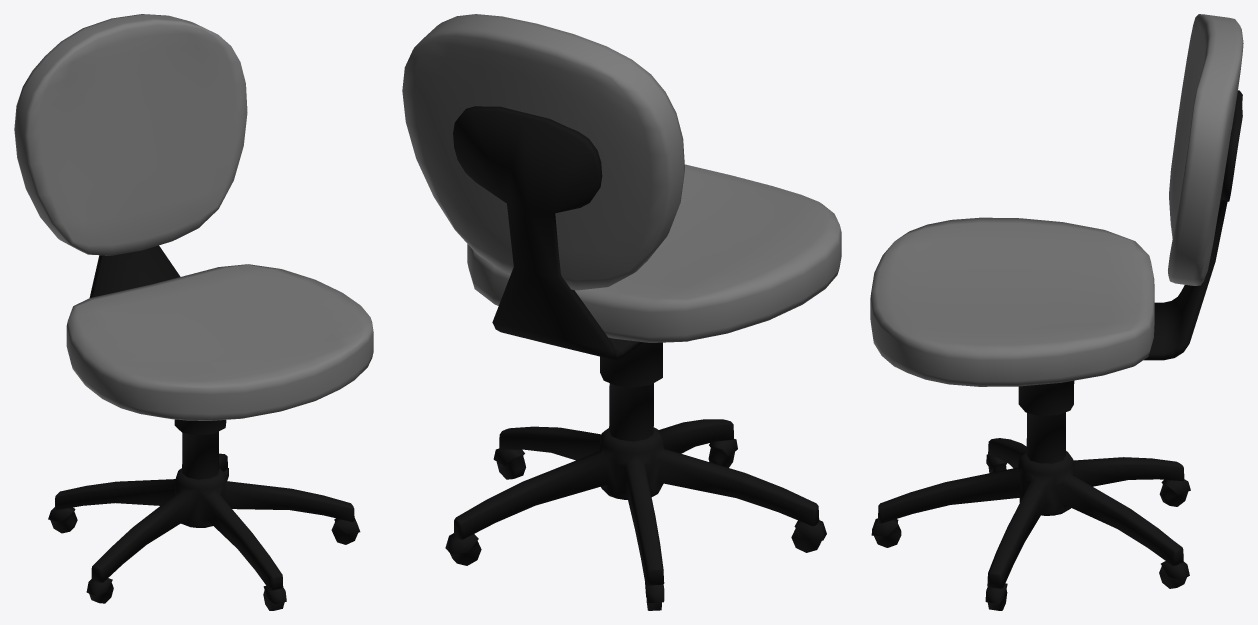
Rendered from Kursi1.fbx.
3 views of the same model, side by side, from view 1: azimuth 30°, elevation 25°; view 2: azimuth 150°, elevation 25°; view 3: azimuth 270°, elevation 25° (orthographic). The views are drawn at different scales.
Visible parts, largest first — view 1: Mesh.001; view 2: Mesh.001; view 3: Mesh.001.
Part boxes in pixels (bbox=[...]): Mesh.001: bbox=[14, 14, 373, 610]; Mesh.001: bbox=[402, 14, 841, 610]; Mesh.001: bbox=[870, 14, 1243, 610].
Bounding box in the file's own units: 75.21 × 126 × 83.14.
2 materials, 1 textured.
